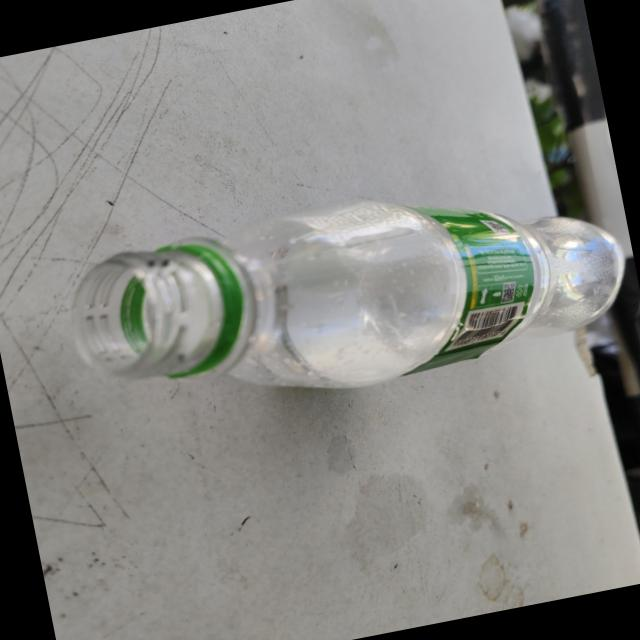Bottle: (73, 200, 624, 387)
